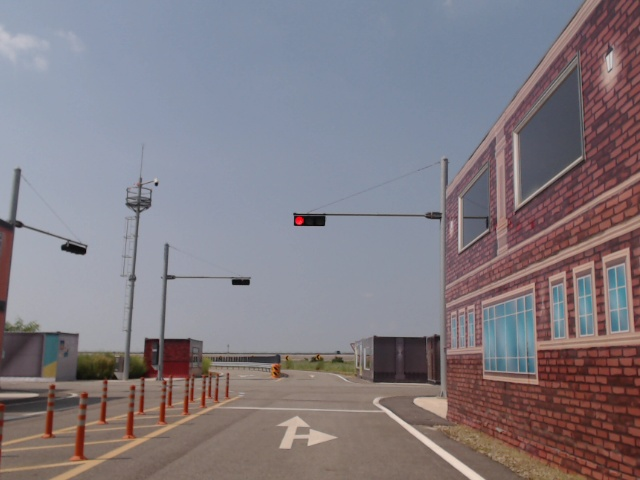red_3: (292, 213, 326, 227)
